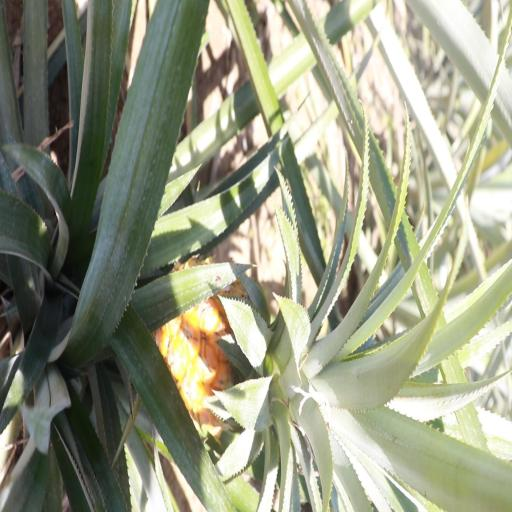Pineapple - v8 v1: (150, 271, 416, 446)
